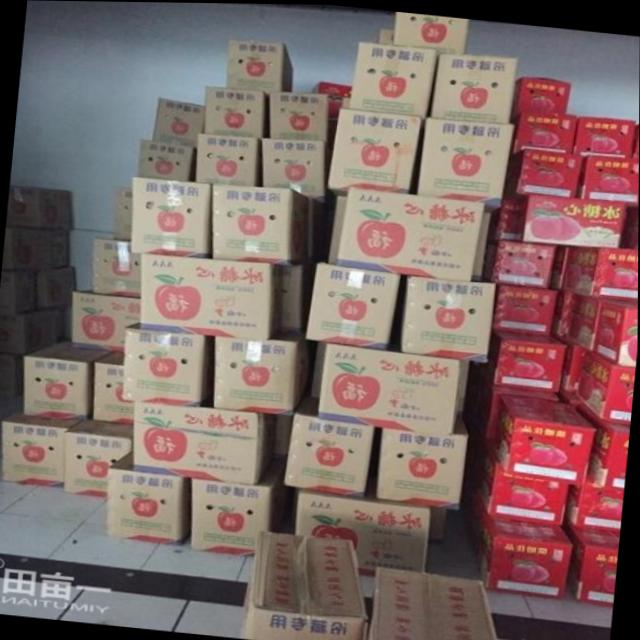box: (241, 528, 368, 640), (335, 185, 484, 280), (316, 341, 459, 433), (139, 252, 284, 339), (295, 487, 431, 577), (463, 486, 575, 595), (134, 400, 275, 485), (366, 564, 496, 640), (192, 456, 289, 555), (284, 393, 376, 497), (491, 391, 593, 484), (417, 115, 512, 206), (376, 414, 469, 506), (400, 273, 497, 360), (304, 261, 400, 348), (328, 106, 421, 195), (121, 320, 214, 408), (473, 438, 567, 523), (211, 184, 309, 265), (107, 451, 192, 544), (214, 332, 309, 413), (558, 386, 631, 489), (24, 340, 112, 419), (128, 176, 212, 258), (347, 40, 436, 115), (1, 407, 84, 487), (518, 191, 627, 247), (430, 52, 516, 120), (62, 417, 133, 497), (476, 373, 559, 438), (481, 330, 568, 391), (563, 513, 619, 604), (550, 243, 639, 299), (573, 350, 636, 422), (70, 289, 139, 353), (261, 137, 326, 199), (506, 146, 584, 196), (565, 469, 623, 536), (493, 280, 559, 334), (483, 237, 557, 285), (226, 39, 294, 91), (591, 294, 638, 365), (391, 10, 470, 52), (0, 307, 64, 358), (577, 153, 639, 204), (197, 133, 258, 184), (93, 351, 135, 425), (2, 224, 70, 269), (204, 87, 263, 137), (92, 237, 141, 296), (269, 91, 329, 139), (6, 185, 72, 228), (511, 110, 578, 152), (572, 115, 638, 156), (151, 97, 205, 146), (548, 331, 591, 392), (136, 140, 195, 180), (513, 74, 570, 112), (489, 187, 525, 239), (569, 293, 601, 350), (0, 267, 39, 313), (34, 265, 75, 308), (279, 264, 302, 334), (470, 211, 493, 279), (328, 194, 348, 264), (550, 288, 576, 337), (319, 81, 351, 117), (113, 186, 132, 240), (454, 354, 471, 414), (309, 339, 327, 395), (0, 354, 24, 396), (620, 205, 639, 247), (378, 27, 392, 42)
